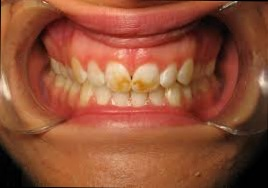Tooth Discoloration: (109, 74, 161, 92)
